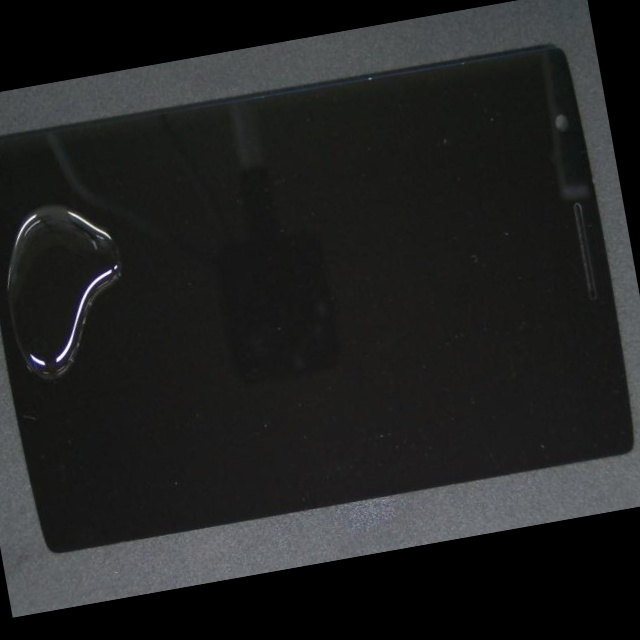oil: (0, 240, 191, 445)
